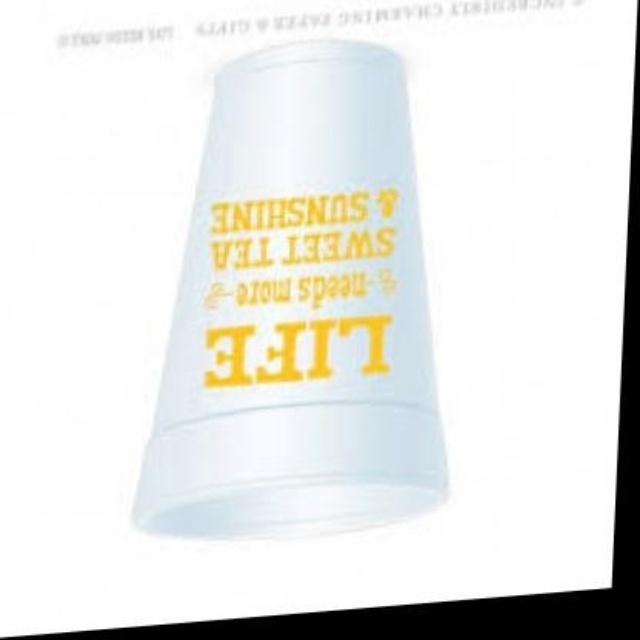trash: (135, 43, 443, 535)
